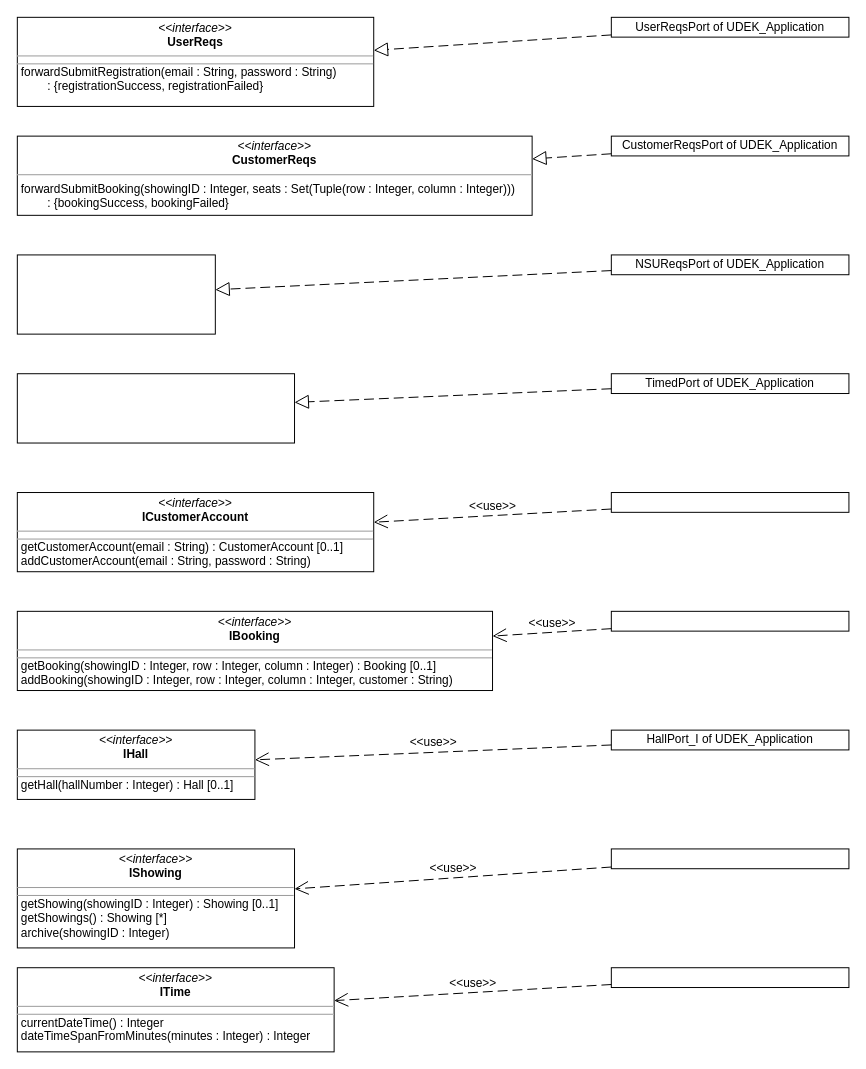
This 866x1069 diagram has some shape labels left out. The shapes that lost their labels are listed below. From the top down, each one's centre as x and y in pixels, then its label:
the point at 115,294: <<interface>> NSUReqs forwardNSUBrowse() : Showing [*]
the point at 155,408: <<interface>> ITimed checkStarted()
the point at 729,502: CAPort_I of UDEK_Application
the point at 729,620: BookingPort_I of UDEK_Application
the point at 729,858: ShowingPort_I of UDEK_Application
the point at 729,977: TimePort_I of UDEK_Application
